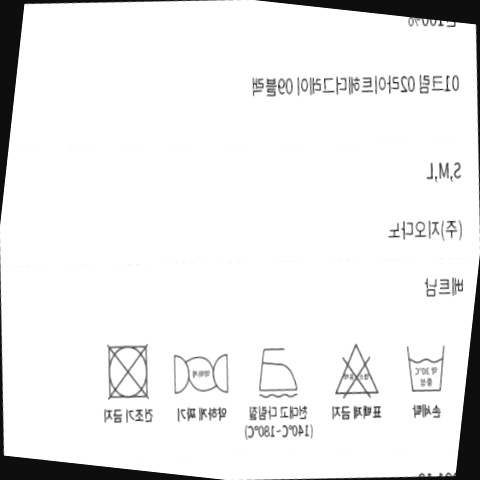30C: (393, 333, 456, 399)
DN_tumble_dry: (92, 332, 163, 409)
iron: (161, 340, 240, 403), (244, 333, 311, 405)
non_chlorine_bleach: (319, 331, 389, 406)
